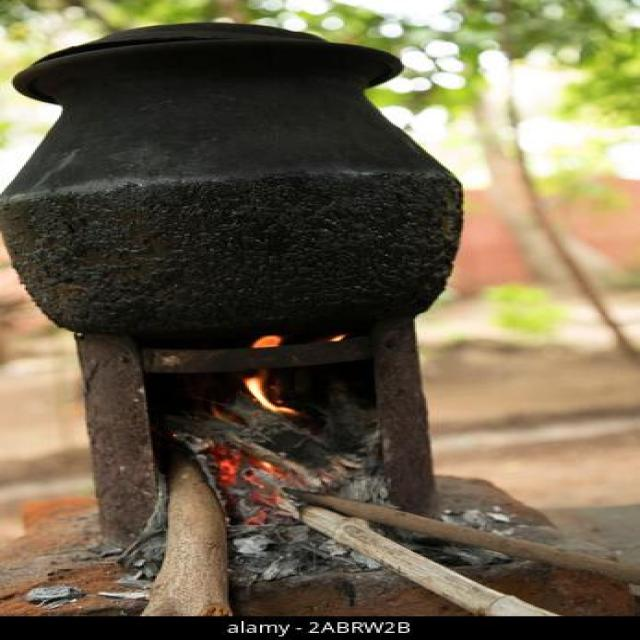fire: (241, 333, 297, 414)
